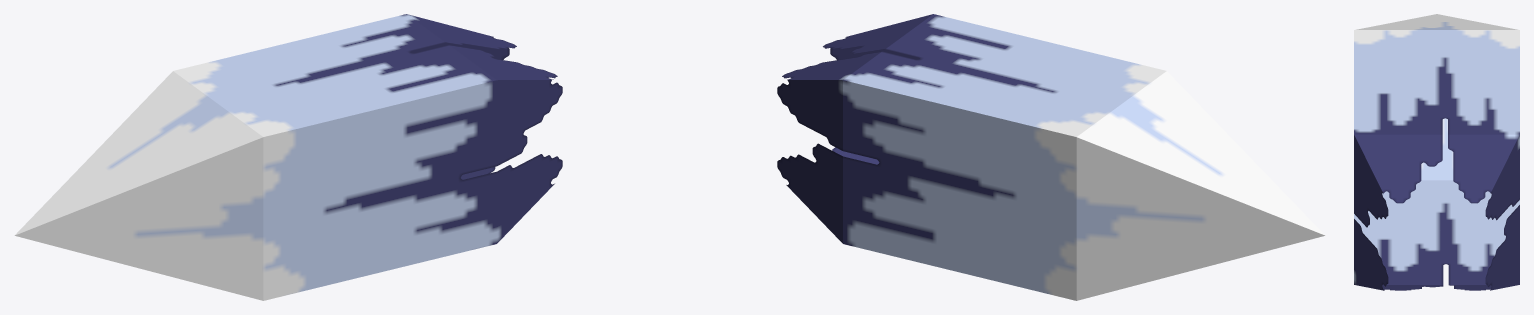
The model's file is Projectile.fbx.
3 views of the same model, side by side, from view 1: azimuth 30°, elevation 25°; view 2: azimuth 150°, elevation 25°; view 3: azimuth 270°, elevation 25° (orthographic). The views are drawn at different scales.
Parts seen in each view (by area): view 1: Bullet; view 2: Bullet; view 3: Bullet.
Boxes of the visible parts, box(x1,y1,x2,y2) form: Bullet: box(14, 14, 562, 300); Bullet: box(777, 14, 1325, 300); Bullet: box(1354, 14, 1519, 290).
Size of the model in its own units: 4.1 by 1 by 1.
1 material, 1 textured.
